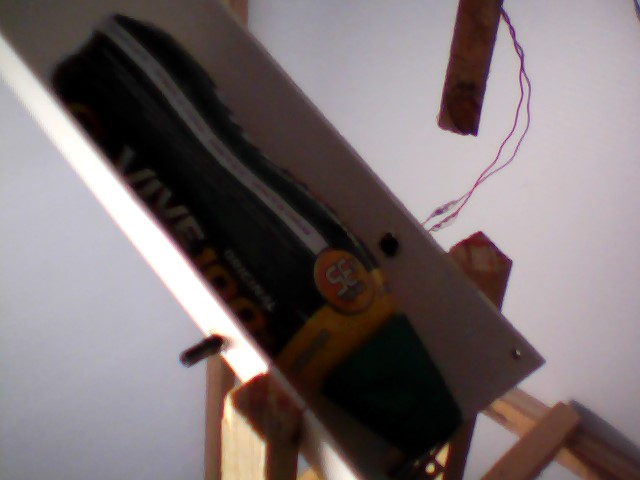plastico: (48, 10, 484, 474)
